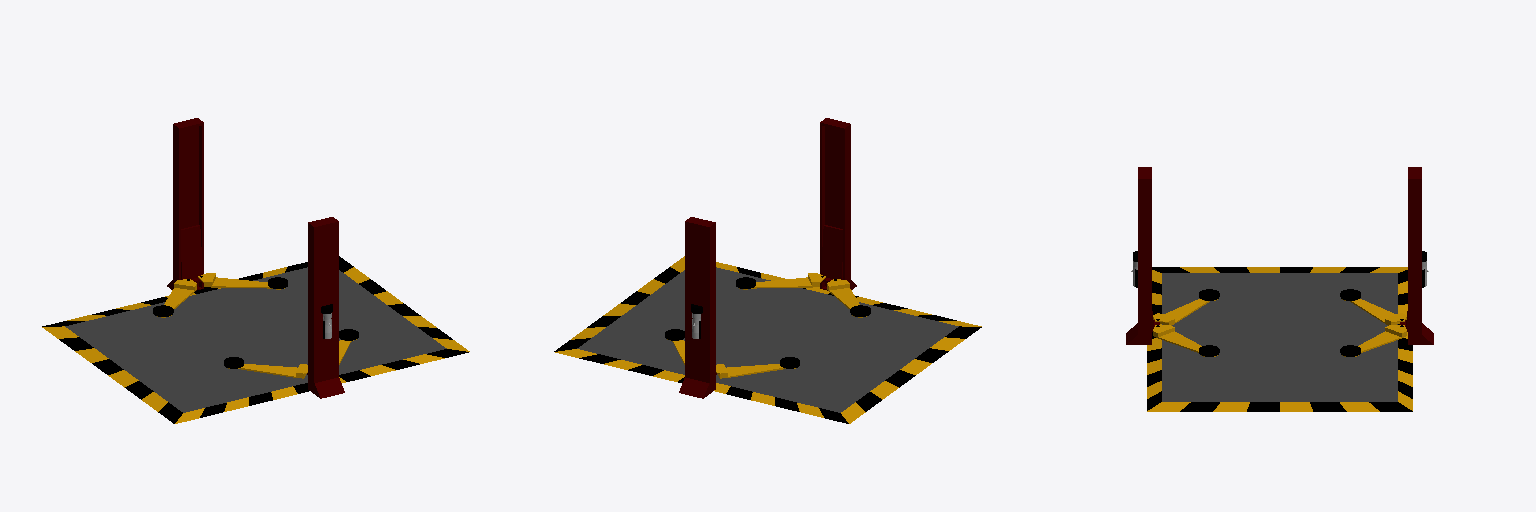
File: Car_Pole_Lift.obj
3 renders of one model, left to right at view 1: azimuth 30°, elevation 25°; view 2: azimuth 150°, elevation 25°; view 3: azimuth 270°, elevation 25°, orthographic.
Parts seen in each view (by area): view 1: Plane, Plane.002, Cylinder.001_Cylinder.004, Cylinder, Plane.003_Plane.004; view 2: Plane, Plane.002, Cylinder, Cylinder.001_Cylinder.004, Plane.003_Plane.004; view 3: Plane, Plane.002, Plane.003_Plane.004, Cylinder, Cylinder.001_Cylinder.004.
Boxes of the visible parts, <box> form: Plane: <box>65,267,446,412</box>; Plane.002: <box>42,256,469,423</box>; Cylinder.001_Cylinder.004: <box>308,217,344,398</box>; Cylinder: <box>167,118,203,290</box>; Plane.003_Plane.004: <box>153,225,358,378</box>; Plane: <box>577,267,958,412</box>; Plane.002: <box>554,256,981,423</box>; Cylinder: <box>679,217,715,398</box>; Cylinder.001_Cylinder.004: <box>820,118,856,290</box>; Plane.003_Plane.004: <box>665,225,870,378</box>; Plane: <box>1162,273,1397,401</box>; Plane.002: <box>1147,267,1412,411</box>; Plane.003_Plane.004: <box>1152,289,1407,356</box>; Cylinder: <box>1408,167,1433,344</box>; Cylinder.001_Cylinder.004: <box>1126,167,1151,344</box>.
Size of the model in its own units: 4.5 by 2.42 by 4.06.